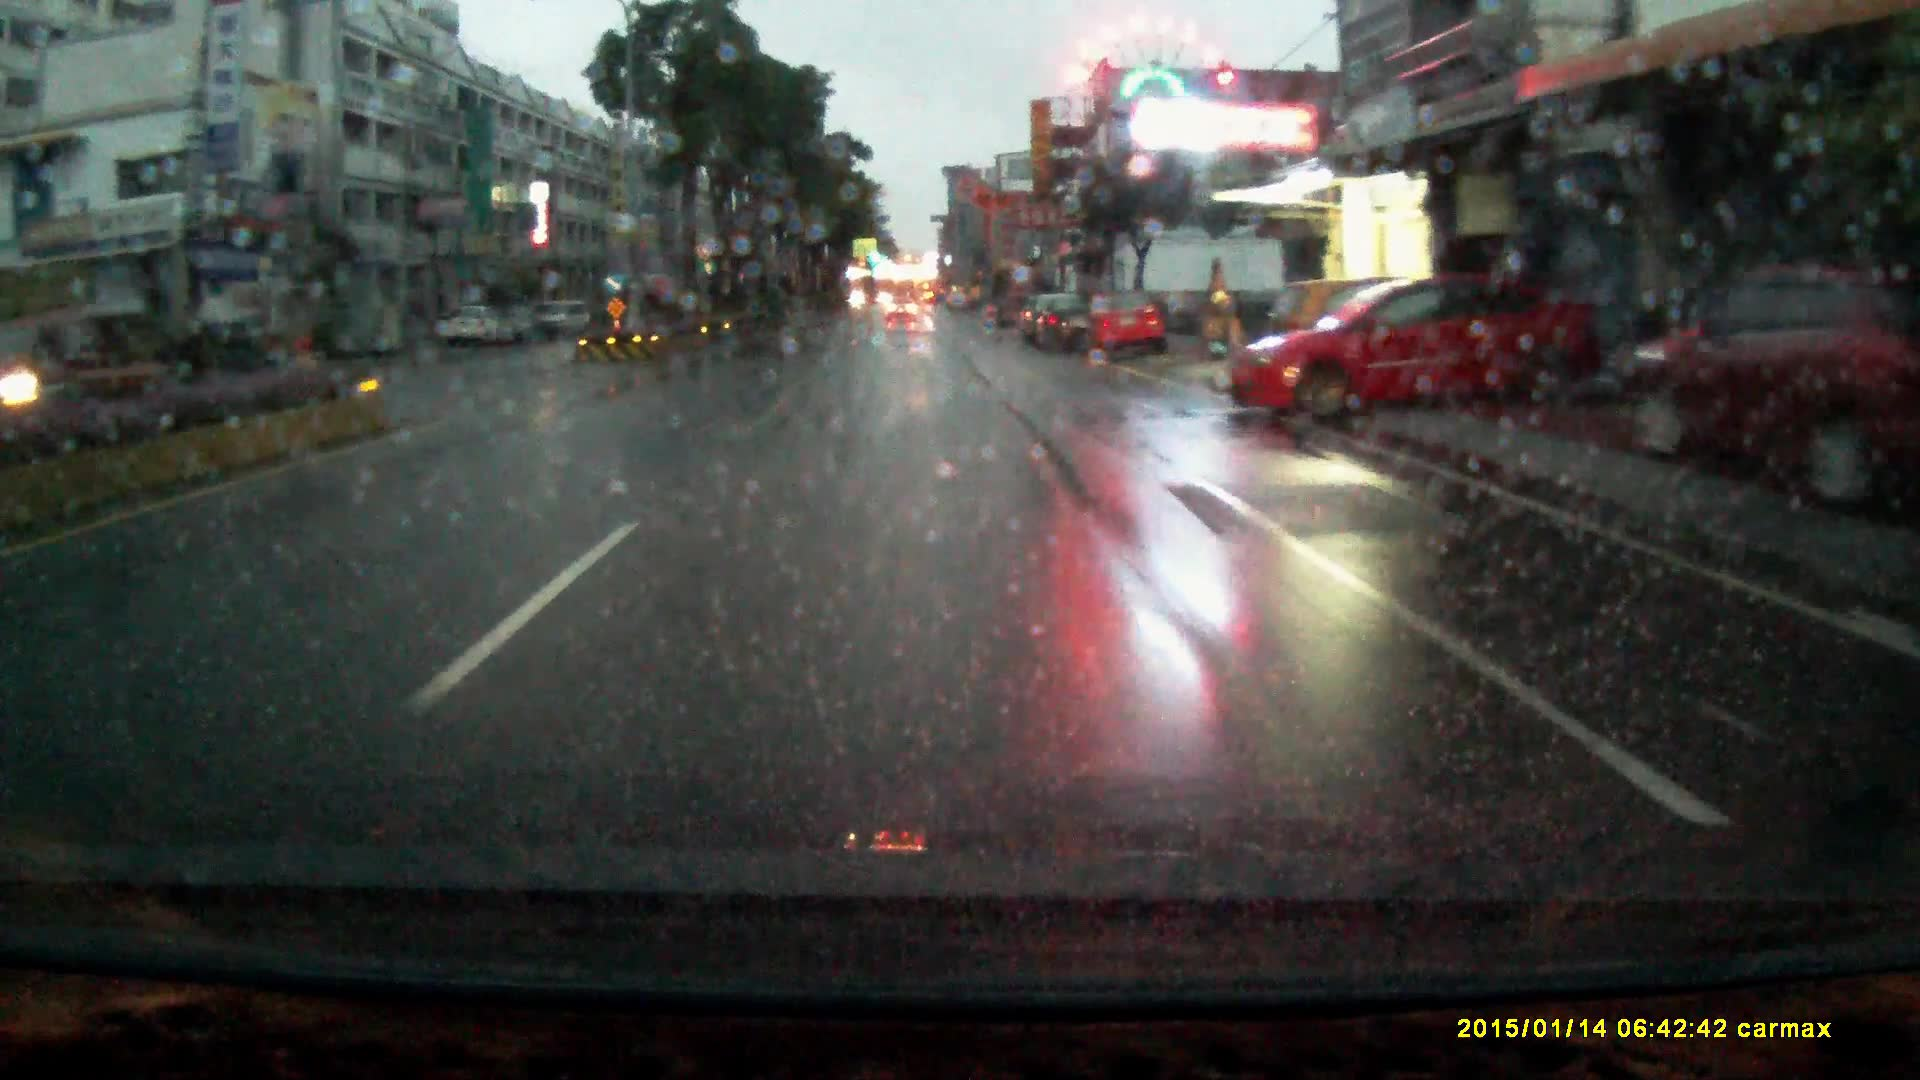vehicle: (1236, 272, 1611, 425), (1077, 294, 1172, 363), (1029, 294, 1097, 356), (446, 299, 502, 348), (535, 299, 595, 340), (886, 297, 918, 324)
